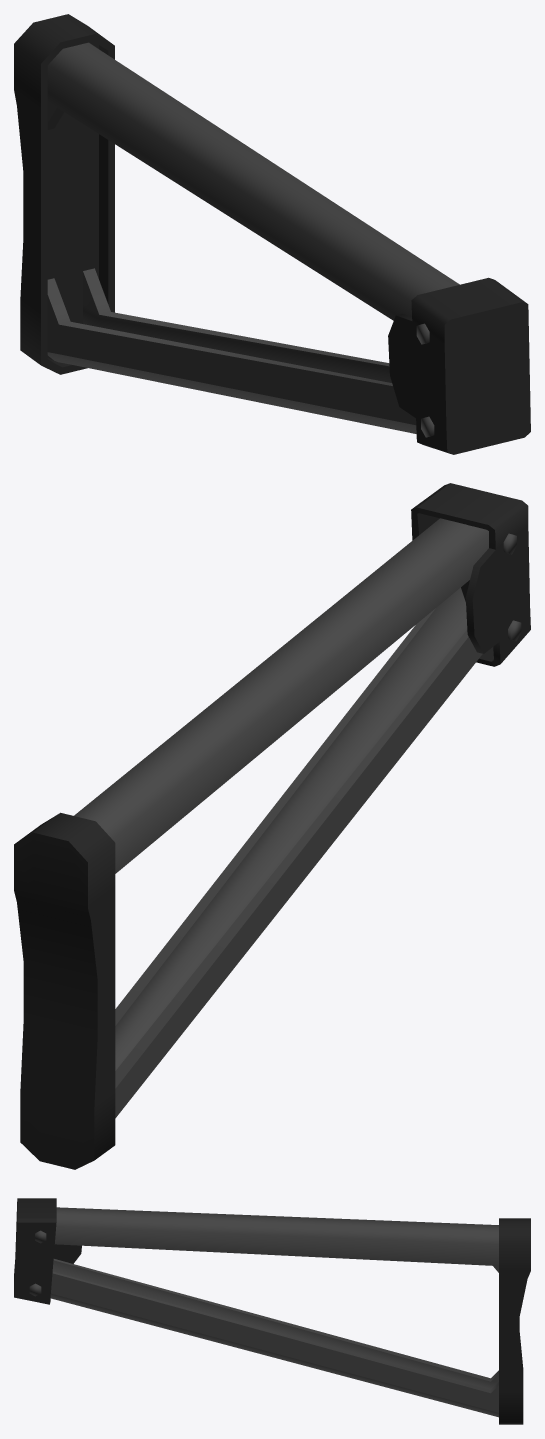
File: stock_1.fbx
3 views of the same model, one above another, from view 1: azimuth 30°, elevation 25°; view 2: azimuth 150°, elevation 25°; view 3: azimuth 270°, elevation 25° (orthographic). The views are drawn at different scales.
Visible parts, largest first — view 1: stock_1; view 2: stock_1; view 3: stock_1.
Boxes of the visible parts, x1=… form: stock_1: x1=14, y1=14, x2=530, y2=454; stock_1: x1=14, y1=483, x2=530, y2=1169; stock_1: x1=14, y1=1198, x2=530, y2=1424.
Bounding box in the file's own units: 166 × 626 × 1387.
